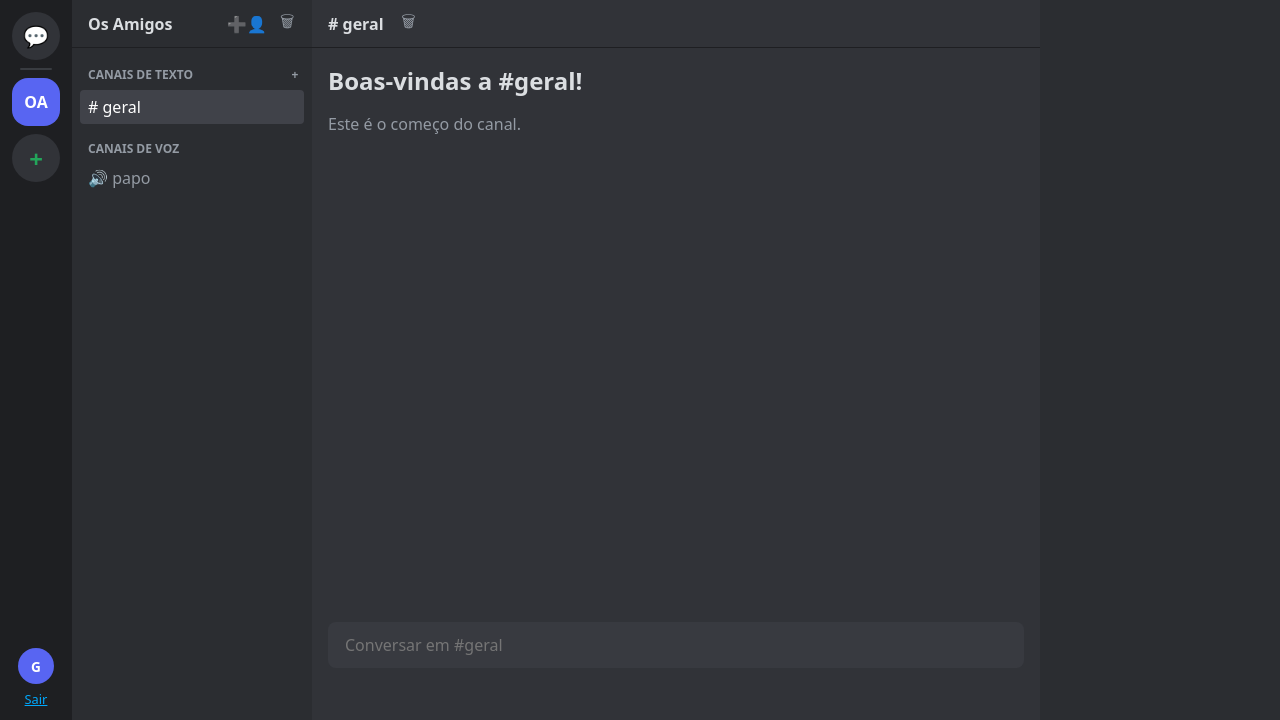
Scenario: transmitir a minha tela › clicar no canal de voz abre a página dele, conectado e sem receber telas automaticamente
Click the button with aria-label "Entrar no canal de voz papo" at (179, 178), box left=80, top=161, right=278, bottom=195
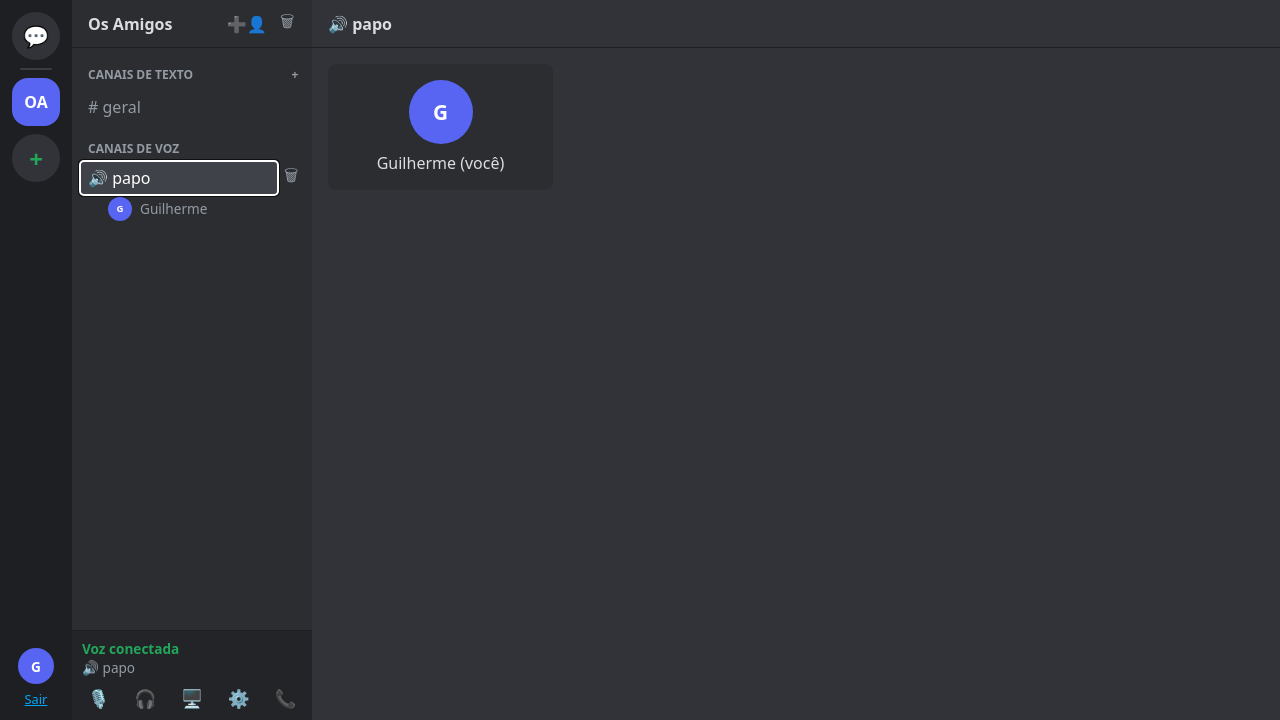
Check: the text "Voz conectada" is shown, box left=82, top=639, right=179, bottom=658
Check: the heading "🔊 papo" is shown, box left=328, top=12, right=392, bottom=34
